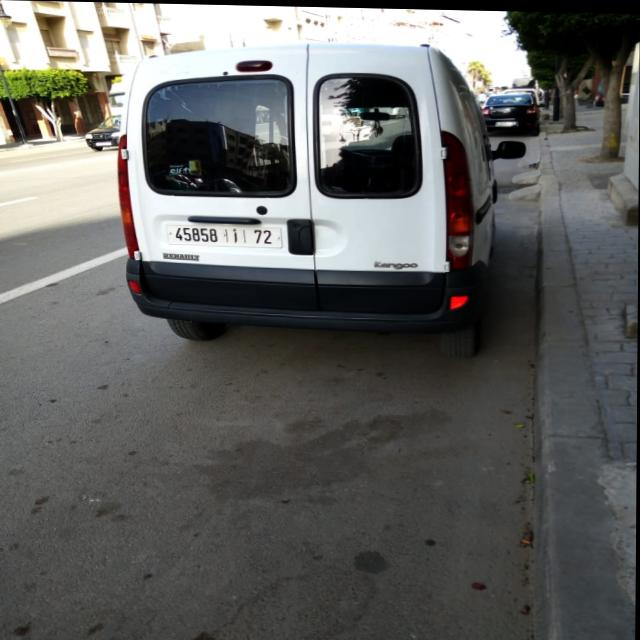License-Plate: (167, 225, 282, 247)
